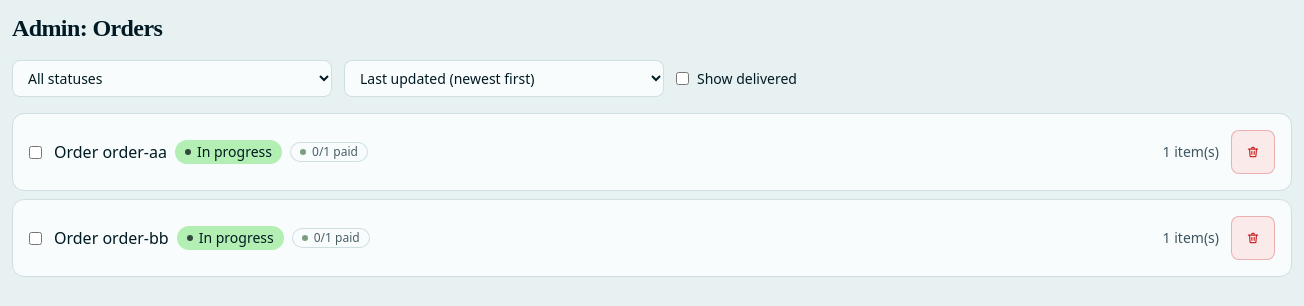
Test: AdminOrdersPage › disables merge, with a hint, when selected orders belong to different users
The image size is (1304, 306).
Check: the link "Order order-aa In progress 0/1 paid" is shown, box [54,140,368,164]
What coordinates should you click on to do the following:
click the checkbox named "Select order order-aa"
I would click on:
 (36, 152)
Its box is [29,146,42,158].
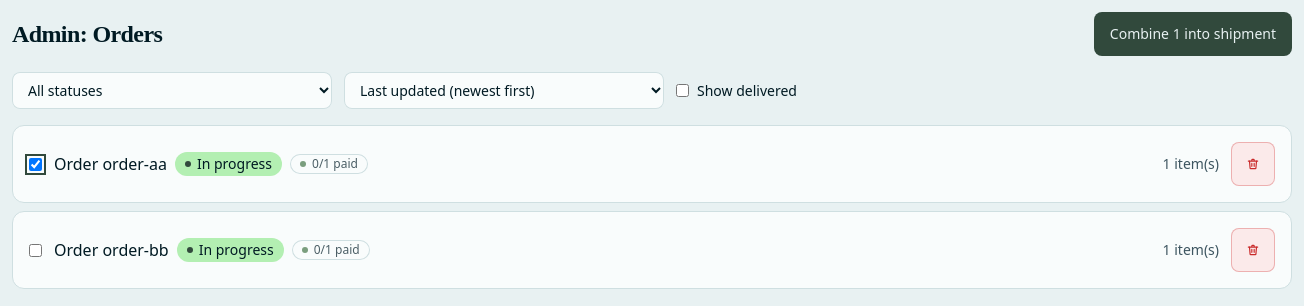
What coordinates should you click on to do the following:
click the checkbox named "Select order order-bb"
I would click on:
 (36, 250)
Its box is [29,244,42,256].
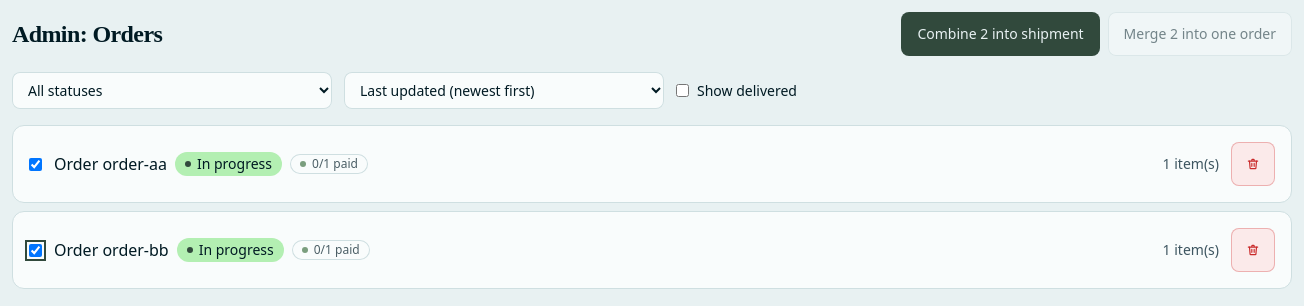
Check: the button "Merge 2 into one order" is disabled, box [1108,12,1292,56]
